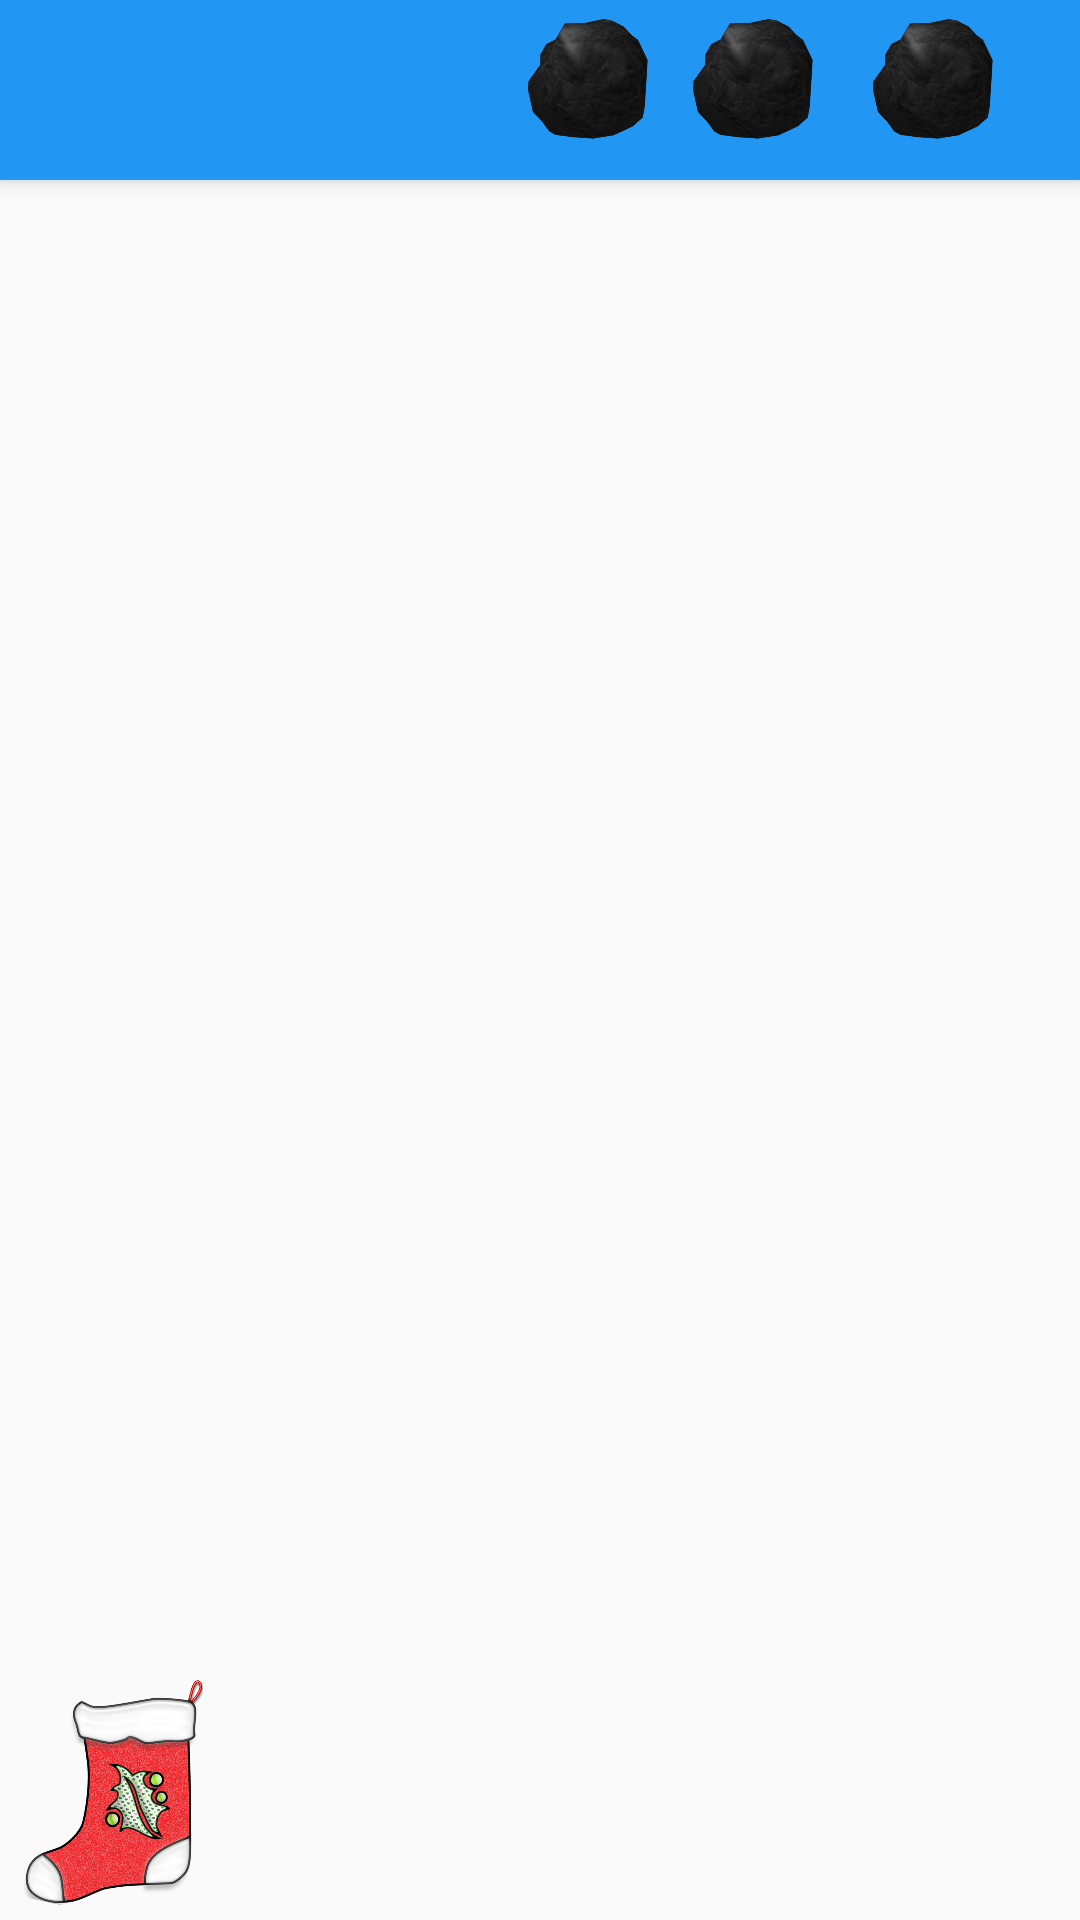

Locate icon controls on the screen. Image size 1080x1920, boxes as (x1, y1, x2, y2).
coal: (528, 19, 648, 139), (693, 19, 813, 139), (873, 19, 993, 139)
thestocking: (25, 1680, 203, 1905)
